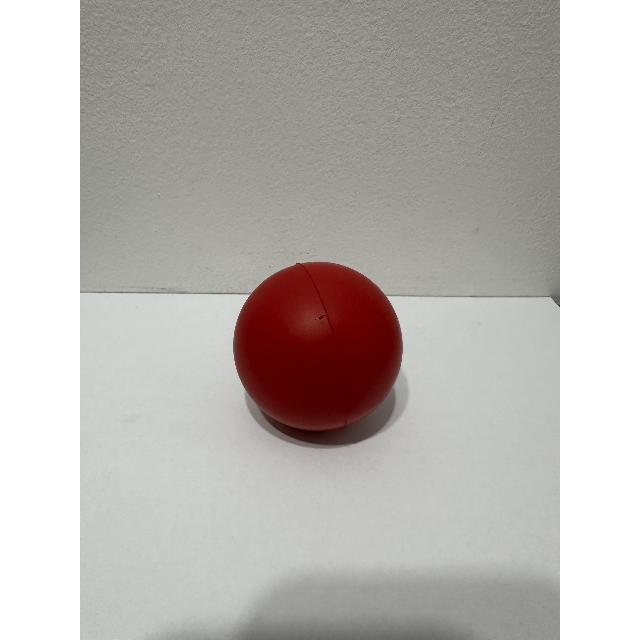red_ball: (226, 247, 434, 459)
